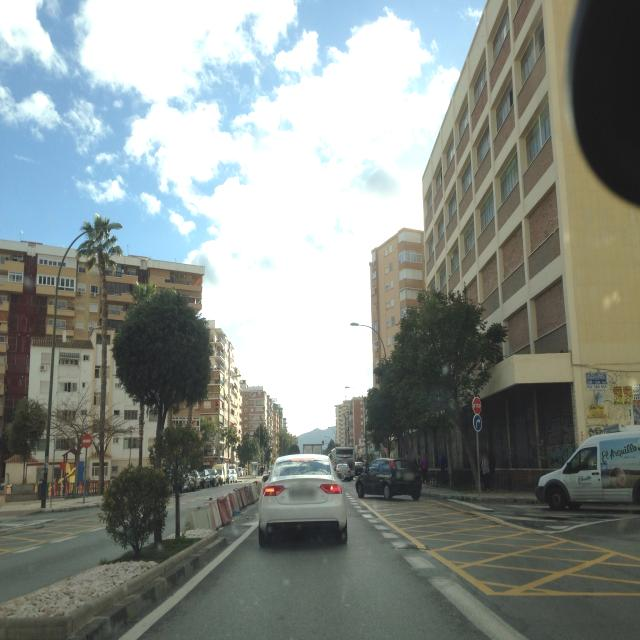car: (534, 424, 640, 513), (257, 454, 348, 546), (356, 457, 422, 501), (204, 468, 219, 487), (188, 470, 202, 489)
